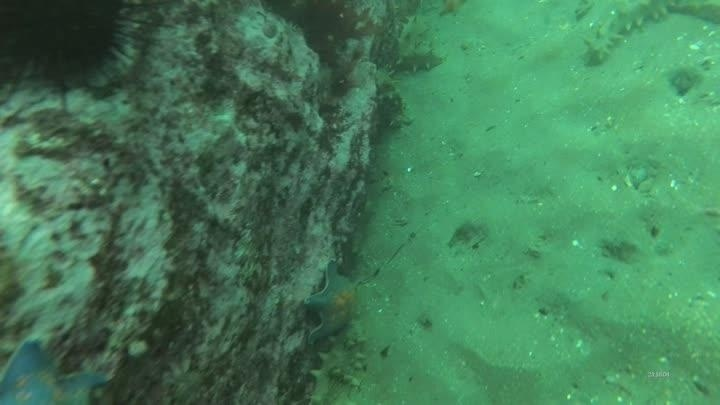echinus: (0, 1, 143, 94)
holothurian: (577, 1, 678, 69), (304, 322, 371, 404), (390, 12, 447, 76), (368, 64, 413, 136)
starfish: (0, 336, 113, 403), (302, 261, 367, 346)
